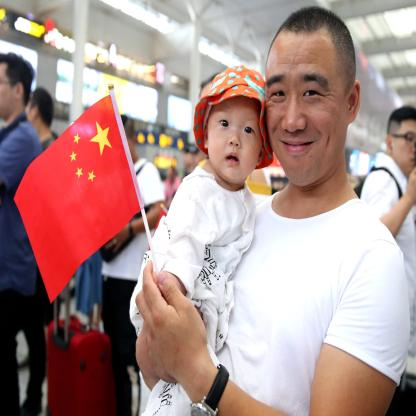person: (267, 7, 361, 199), (204, 94, 268, 186), (0, 50, 32, 136), (384, 101, 416, 179), (29, 83, 55, 142)
